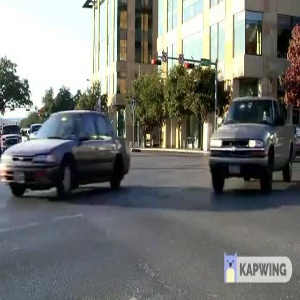car: (1, 106, 131, 196)
truck: (195, 86, 298, 203)
